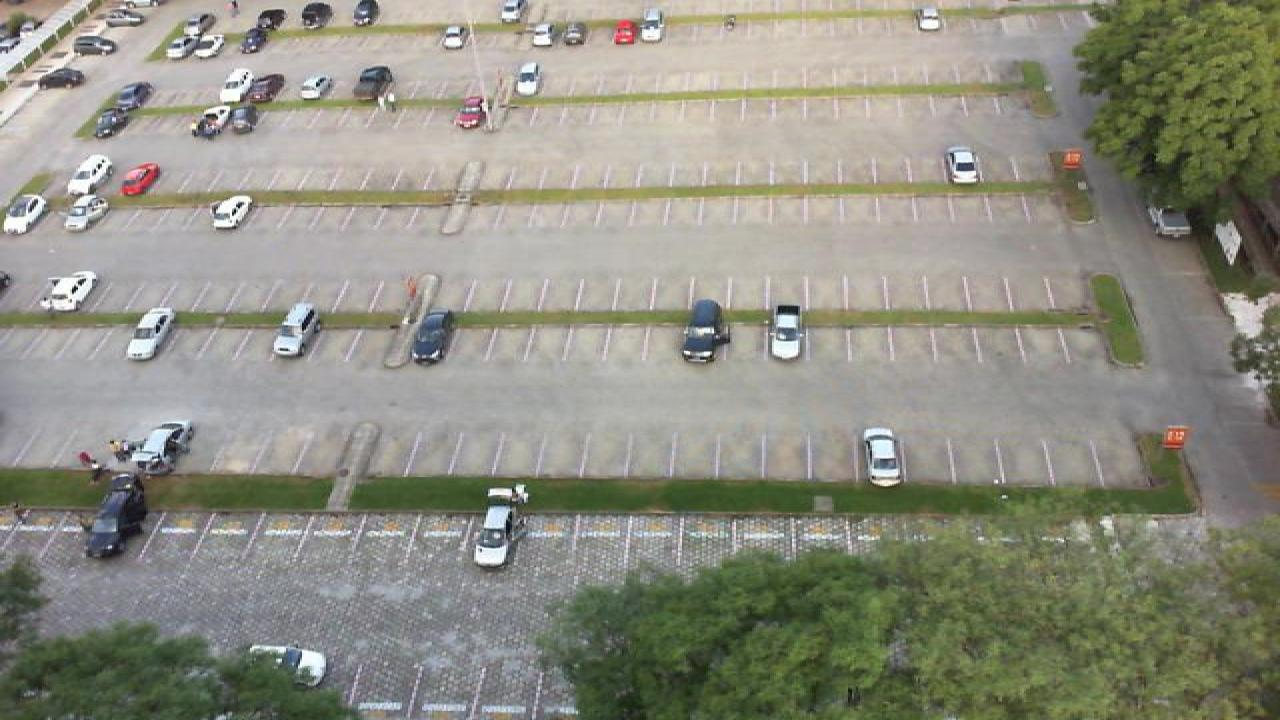Car: (84, 475, 150, 559), (472, 485, 528, 567), (250, 644, 328, 688), (132, 422, 194, 476), (680, 298, 726, 364), (124, 307, 176, 361), (272, 303, 320, 359), (408, 310, 456, 366), (862, 426, 906, 487), (768, 303, 808, 362), (42, 271, 98, 313), (2, 192, 48, 236), (68, 154, 114, 197), (62, 192, 108, 234), (210, 194, 256, 232), (1146, 204, 1194, 240), (118, 163, 162, 198), (218, 68, 258, 105), (354, 64, 394, 100), (946, 146, 982, 184), (112, 81, 154, 113), (192, 107, 232, 139), (454, 96, 490, 130), (248, 73, 286, 104), (94, 108, 130, 140), (298, 73, 334, 104), (38, 68, 86, 90), (72, 35, 120, 57), (514, 61, 542, 96), (638, 9, 666, 44), (166, 34, 200, 60), (228, 106, 258, 135), (176, 11, 212, 35), (192, 32, 226, 57), (238, 29, 270, 55), (350, 0, 380, 27), (440, 23, 470, 50), (256, 6, 288, 31), (302, 4, 334, 29), (92, 16, 128, 37), (914, 7, 944, 32), (614, 19, 640, 46), (500, 0, 528, 25), (528, 23, 556, 45), (562, 23, 588, 46)
